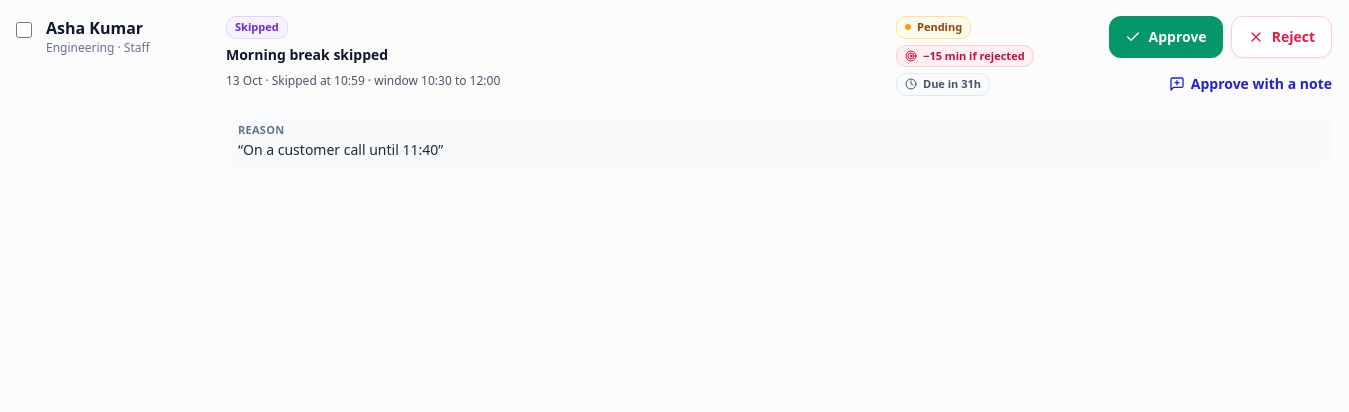
Test: ApprovalCard › asks for a note of 3 or more characters before rejecting
Click the button with aria-label "Reject Asha Kumar".
click(1281, 37)  # box [1231,16,1332,58]
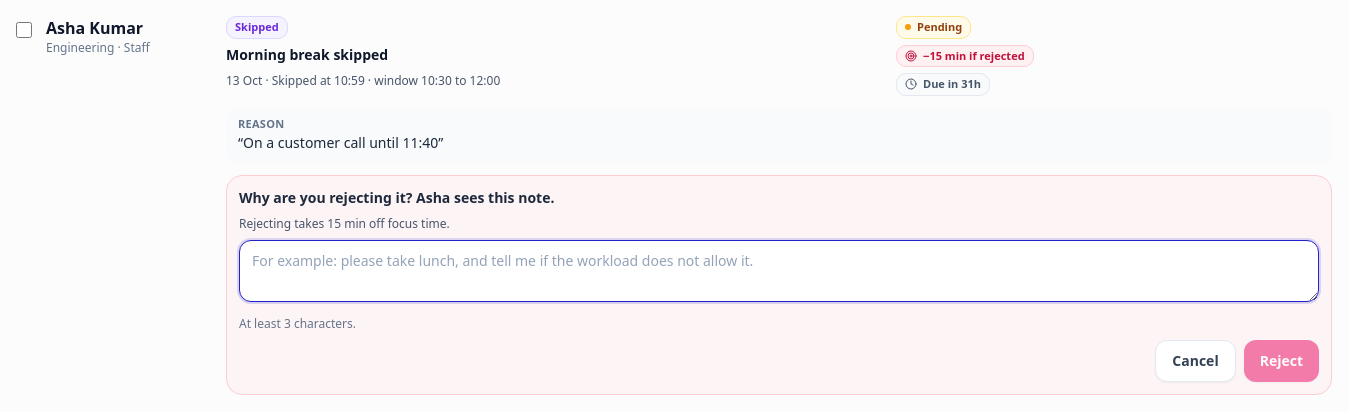
Now the text "Rejecting takes 15 min off focus time." is shown, box [239,215,450,232]
Now the button "Reject" is disabled, box [1244,340,1319,382]
Type "ok" into the text box labelled "Why are you rejecting it? Asha sees this note.".
click(779, 271); type("ok")  # box [239,240,1319,302]
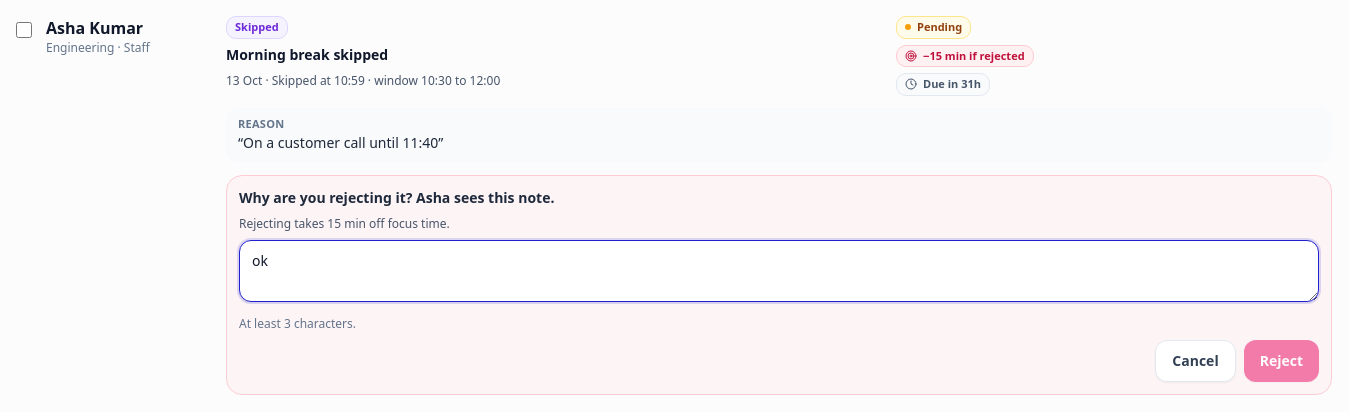
Now the button "Reject" is disabled, box [1244,340,1319,382]
Type " Please take your break" into the text box labelled "Why are you rejecting it? Asha sees this note.".
click(779, 271); type(" Please take your break")  # box [239,240,1319,302]
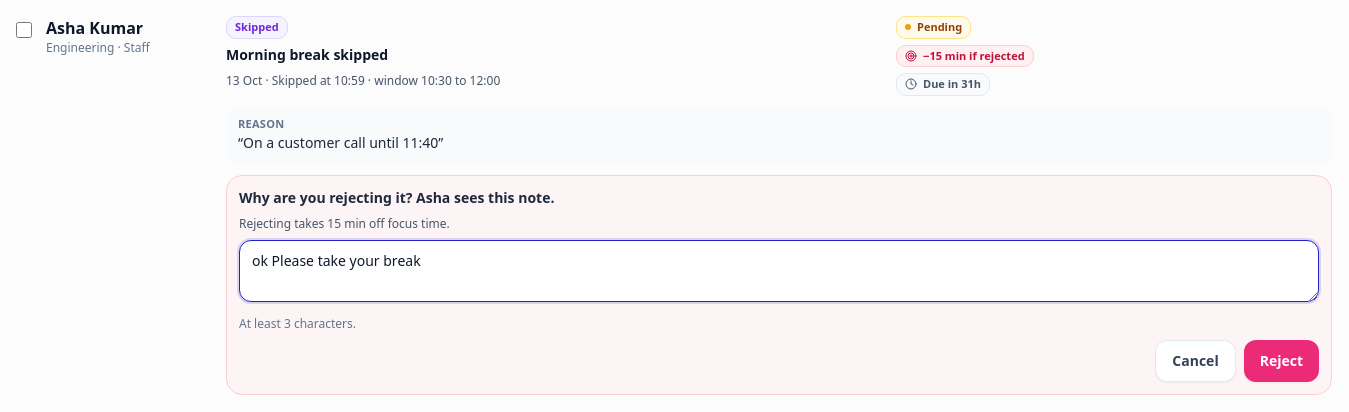
Now the button "Reject" is enabled, box [1244,340,1319,382]
Replace the text in the text box labelled "Why are you rejecting it? Asha sees this note." with "Please take your break" at (779, 271), box [239,240,1319,302]
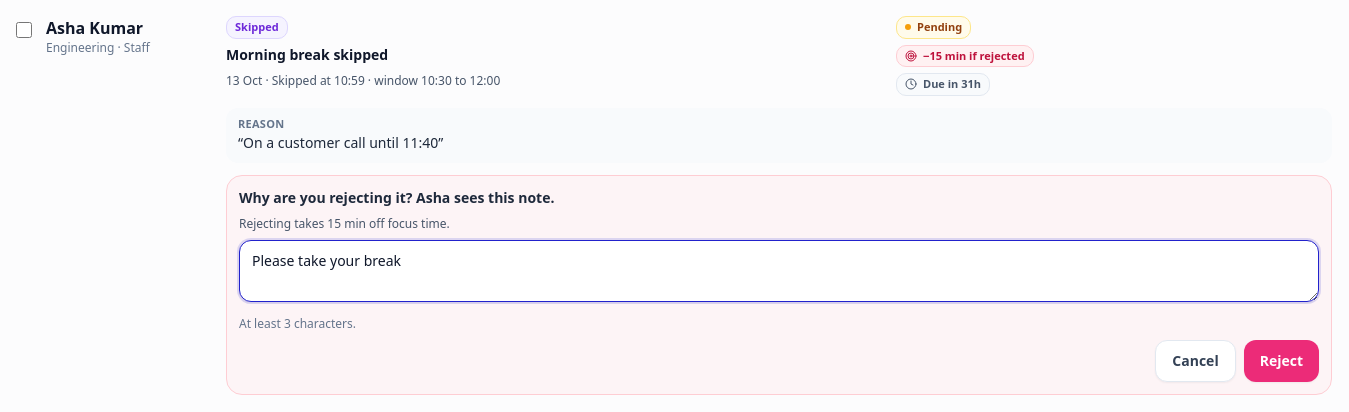
Click the button "Reject".
click(1281, 361)  # box [1244,340,1319,382]
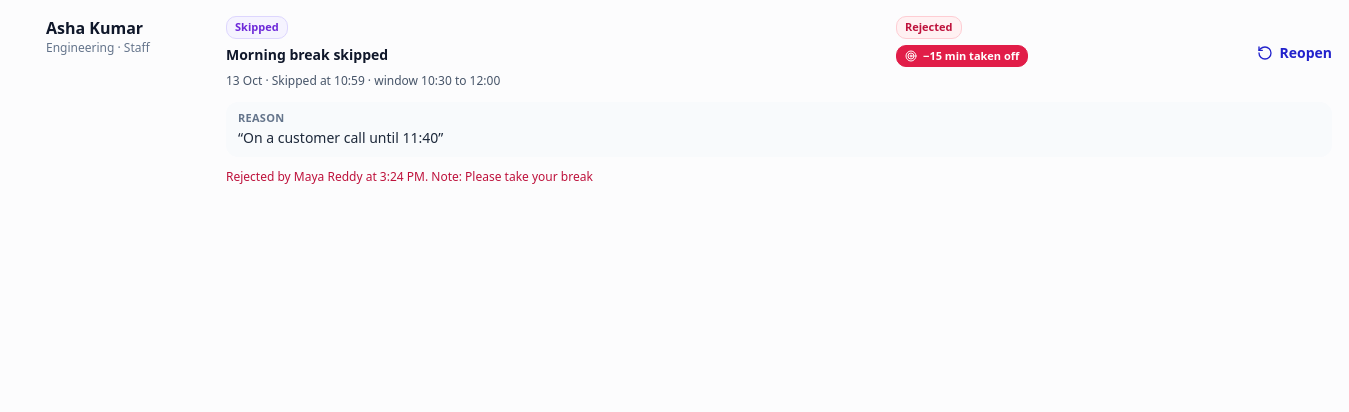
Now the text "−15 min taken off" is shown, box [923,48,1019,64]
Now the text "Note: Please take your break" is shown, box [425,168,593,185]
